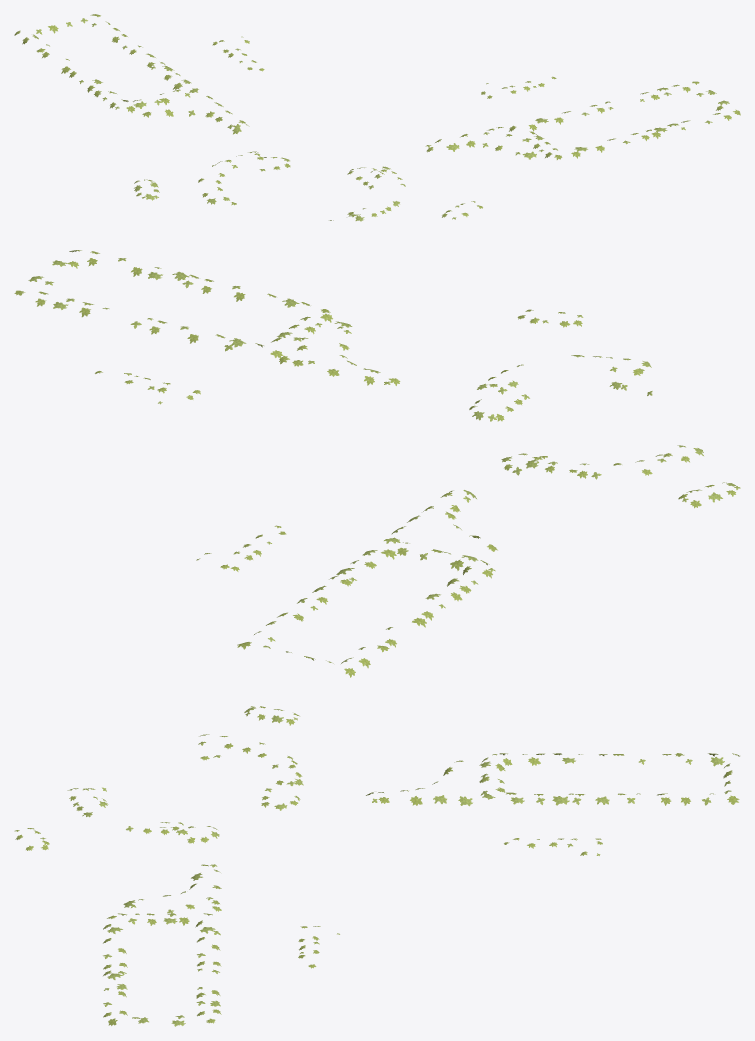
File: pref_sm_garden_plants_vertextcolor_06_lv1.fbx
The picture shows the model from 3 angles, top to bottom: view 1: azimuth 30°, elevation 25°; view 2: azimuth 150°, elevation 25°; view 3: azimuth 270°, elevation 25°; orthographic projection. The views are drawn at different scales.
Visible parts, largest first — view 1: pref_sm_garden_plants_vertextcolor_06_lv1; view 2: pref_sm_garden_plants_vertextcolor_06_lv1; view 3: pref_sm_garden_plants_vertextcolor_06_lv1.
Boxes of the visible parts, box(x1,y1,x2,y2) form: pref_sm_garden_plants_vertextcolor_06_lv1: box(14, 14, 740, 221); pref_sm_garden_plants_vertextcolor_06_lv1: box(14, 250, 740, 677); pref_sm_garden_plants_vertextcolor_06_lv1: box(14, 706, 739, 1026).
Size of the model in its own units: 54.95 by 1.15 by 53.32.
